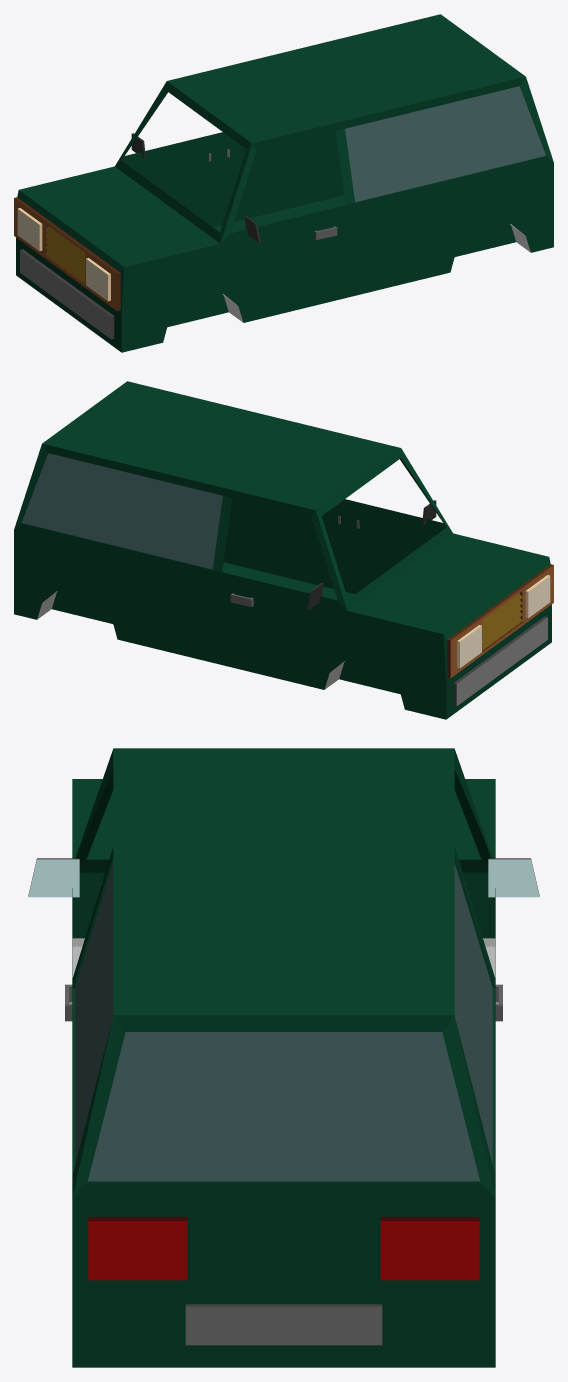
File: playerCar_color.glb
3 renders of one model, top to bottom at view 1: azimuth 30°, elevation 25°; view 2: azimuth 150°, elevation 25°; view 3: azimuth 270°, elevation 25°, orthographic. The views are drawn at different scales.
Visible parts, largest first — view 1: Van_Plane.020; view 2: Van_Plane.020; view 3: Van_Plane.020.
Boxes of the visible parts, bbox=[...] form: Van_Plane.020: bbox=[14, 14, 553, 352]; Van_Plane.020: bbox=[14, 381, 553, 719]; Van_Plane.020: bbox=[28, 748, 539, 1367].
Bounding box in the file's own units: 3.62 × 1.31 × 1.81.
Materials: 1 (1 with a texture image).
